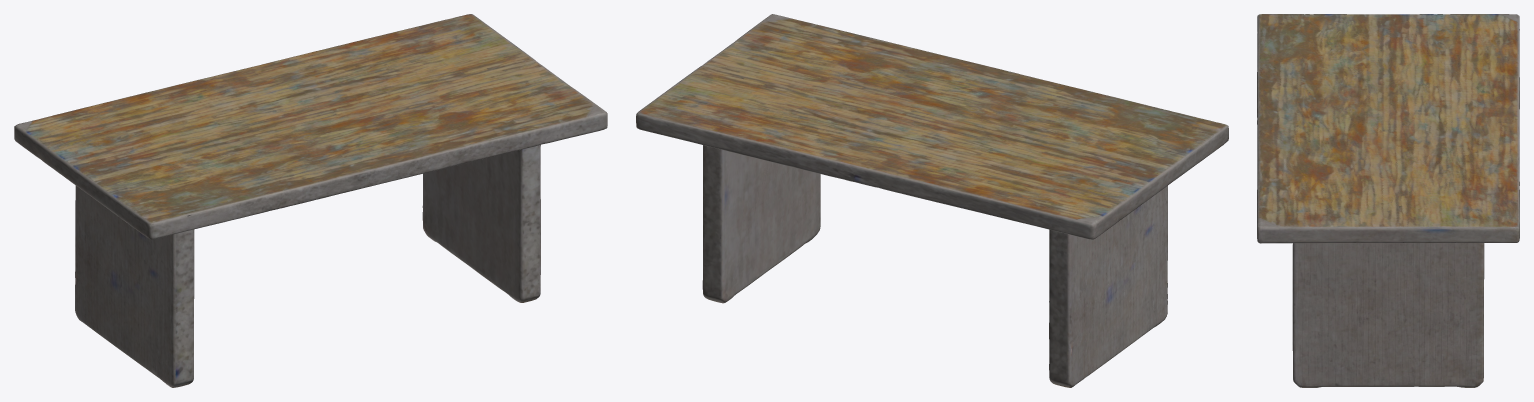
File: long_table.glb
3 views of the same model, side by side, from view 1: azimuth 30°, elevation 25°; view 2: azimuth 150°, elevation 25°; view 3: azimuth 270°, elevation 25° (orthographic). The views are drawn at different scales.
Visible parts, largest first — view 1: file1; view 2: file1; view 3: file1.
Part boxes in pixels (x1,y1,x2,y2): file1: (14,14,607,387); file1: (636,14,1228,387); file1: (1257,14,1519,387).
Size of the model in its own units: 2.01 by 0.8055 by 1.04.
Materials: 1 (1 with a texture image).
